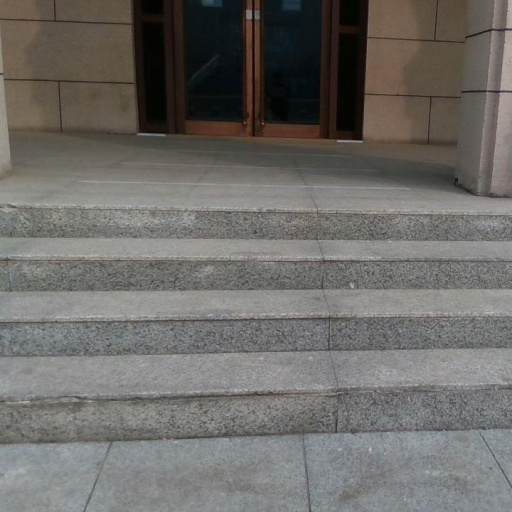Stairs: (0, 186, 512, 512)
